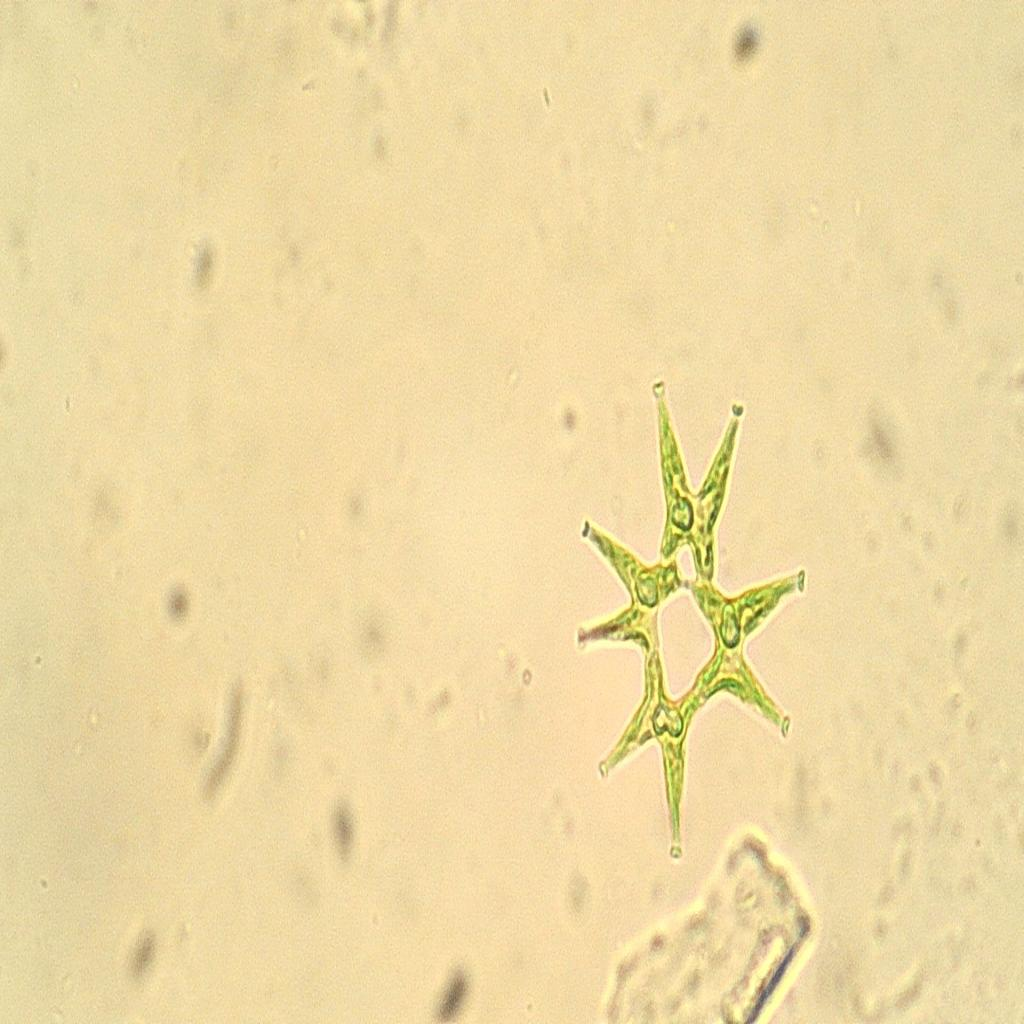Pediastrum_CF: (548, 352, 823, 874)
